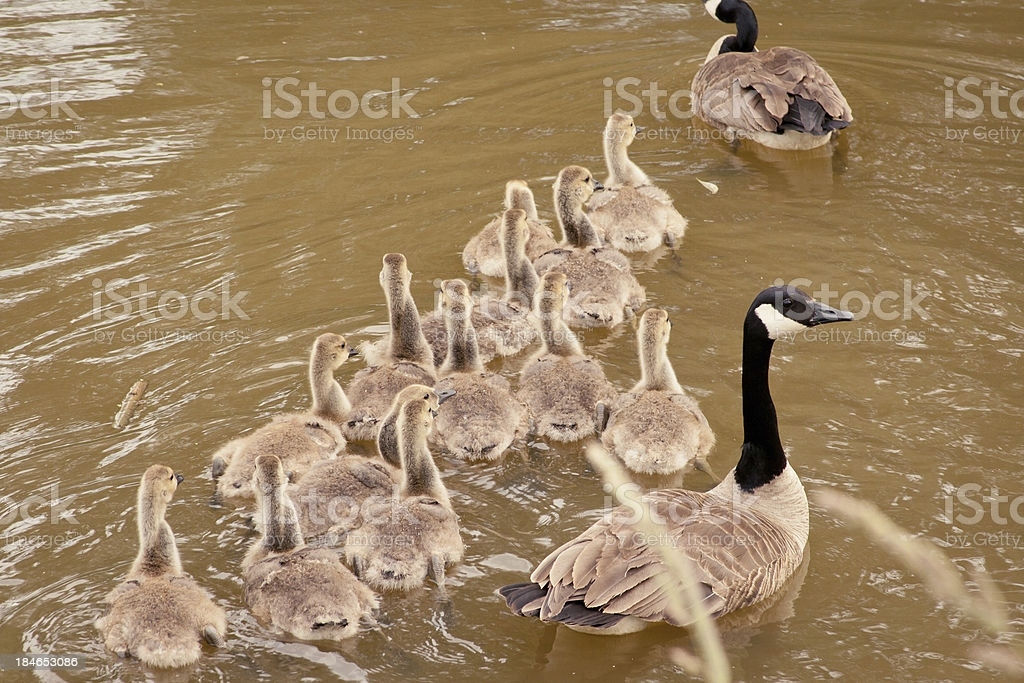goose: (490, 285, 858, 639), (683, 1, 858, 152)
